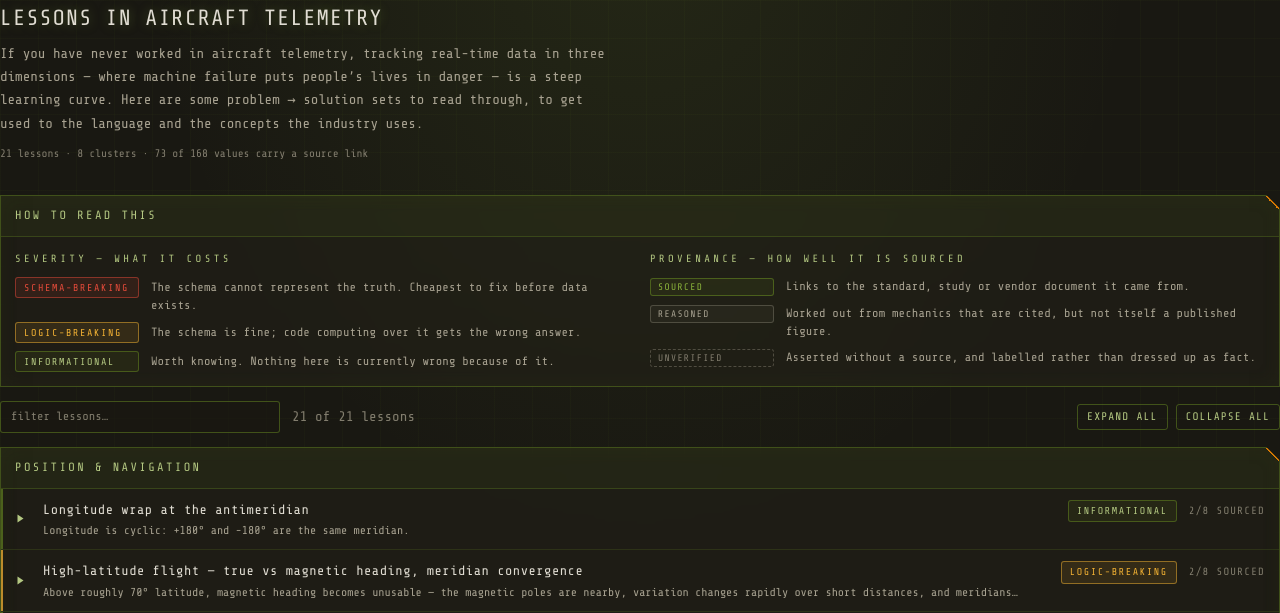
Research page › advances to the next lesson from the button at the foot of one
Step 1. Click the button that starts with "Longitude wrap at the antimeridian" → [176, 509], box [1, 488, 1279, 549]
(page scrolled)
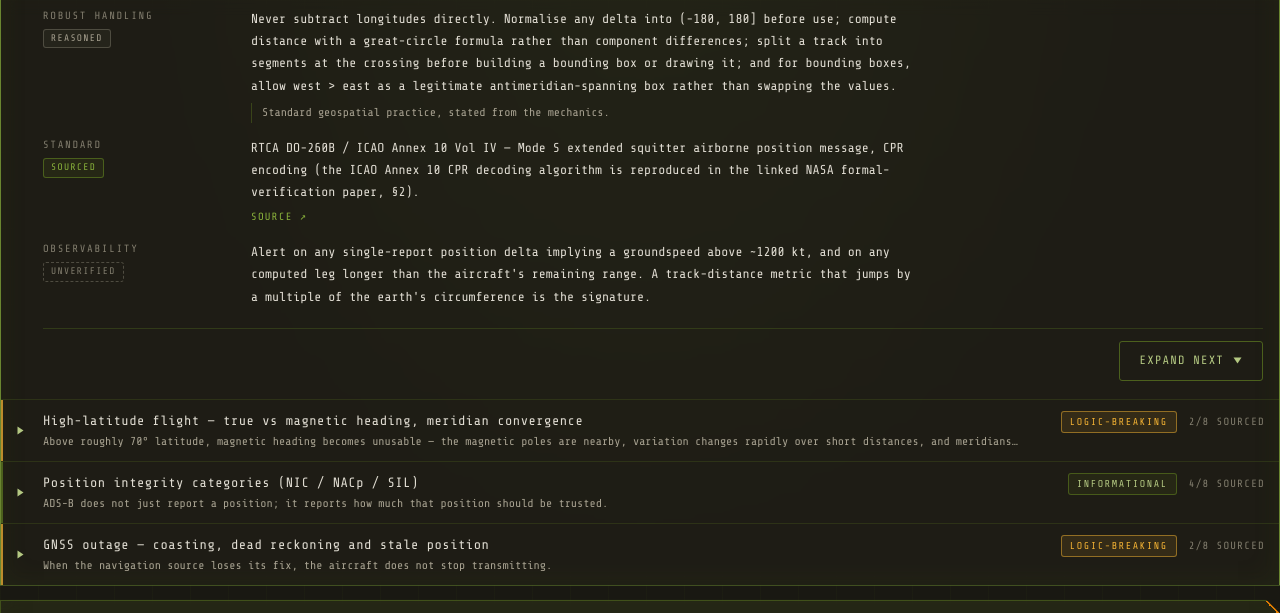
Step 2. Click the button "Expand next" → [1191, 361], box [1118, 341, 1263, 381]
(page scrolled)
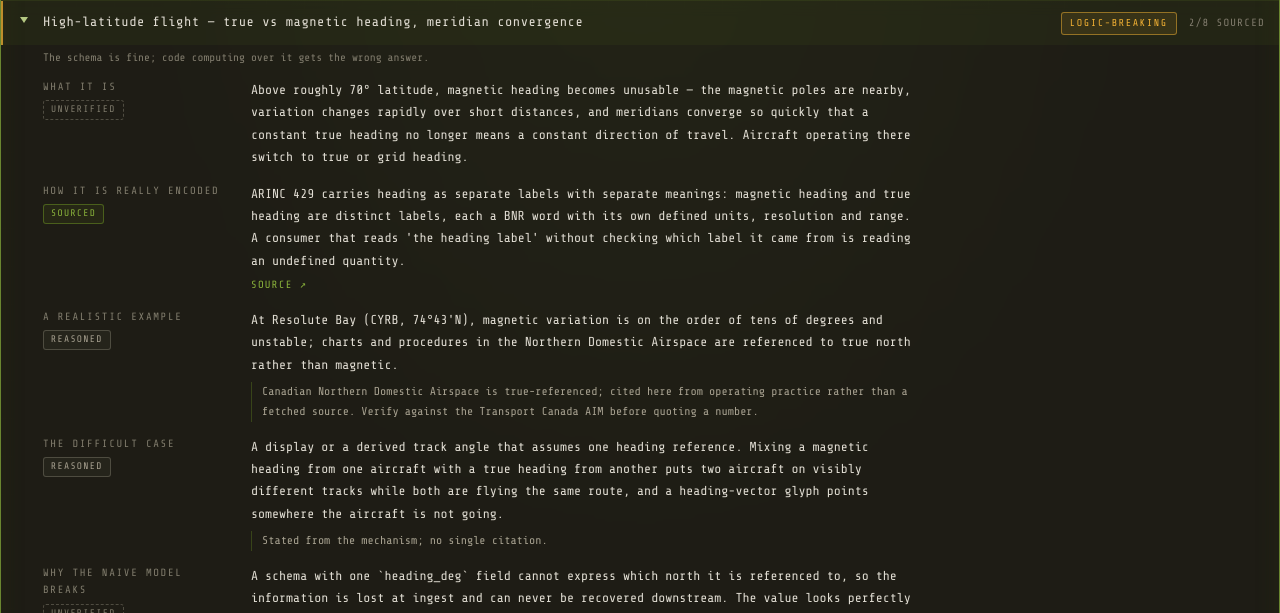
Now the text "Above roughly 70° latitude, magnetic heading becomes unusable — the magnetic poles are nearby, variation changes rapidly" is shown, box [251, 82, 911, 164]
